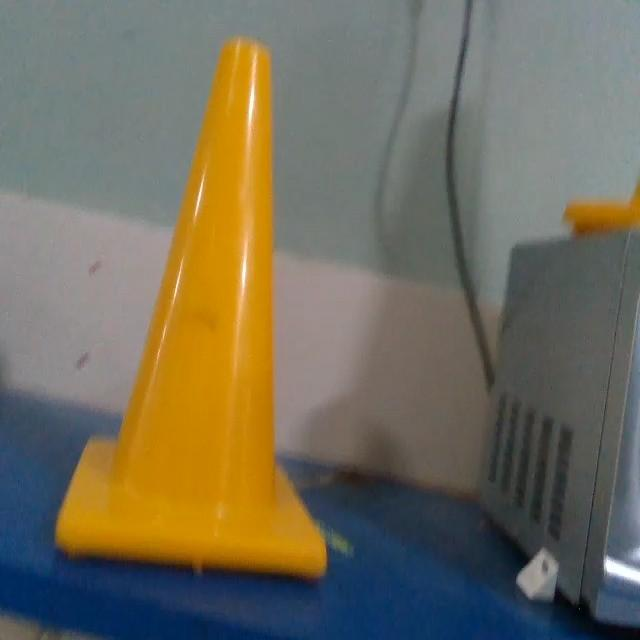cone: (55, 37, 327, 582)
